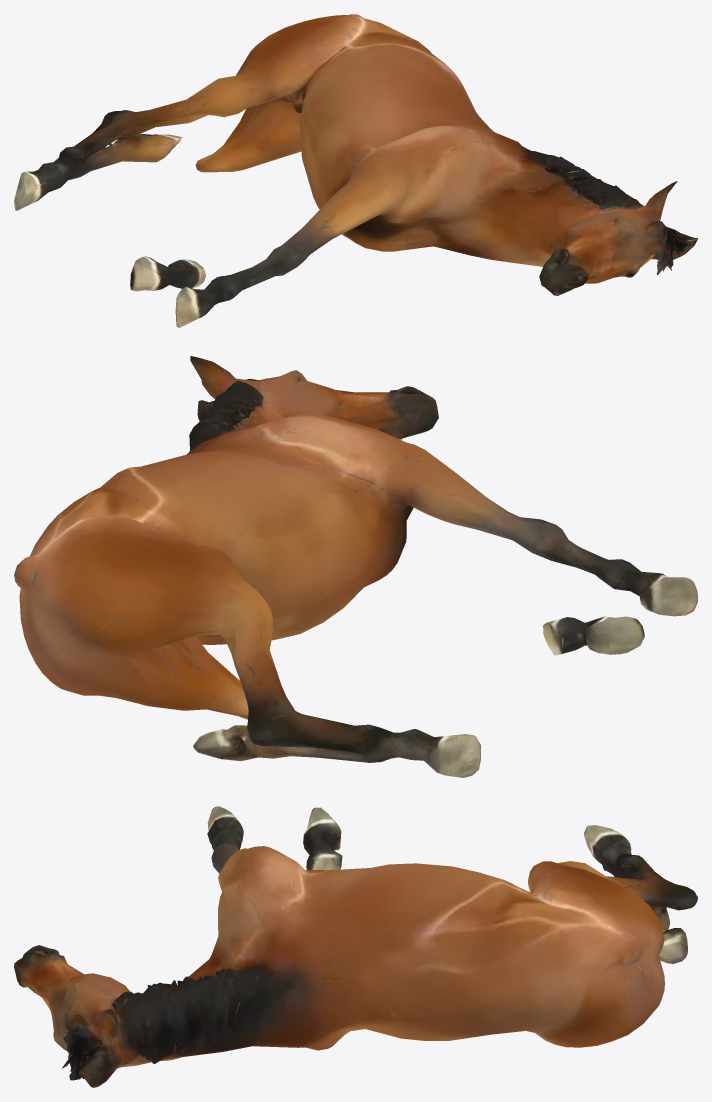
Rendered from deadhorse.glb.
The picture shows the model from 3 angles, top to bottom: view 1: azimuth 30°, elevation 25°; view 2: azimuth 150°, elevation 25°; view 3: azimuth 270°, elevation 25°; orthographic projection. The views are drawn at different scales.
Parts seen in each view (by area): view 1: Mesh_0; view 2: Mesh_0; view 3: Mesh_0.
Boxes of the visible parts, x1=… form: Mesh_0: x1=14, y1=14, x2=697, y2=327; Mesh_0: x1=14, y1=356, x2=697, y2=777; Mesh_0: x1=14, y1=806, x2=697, y2=1087.
Bounding box in the file's own units: 1.7 × 0.4963 × 1.91.
Materials: 1 (1 with a texture image).
